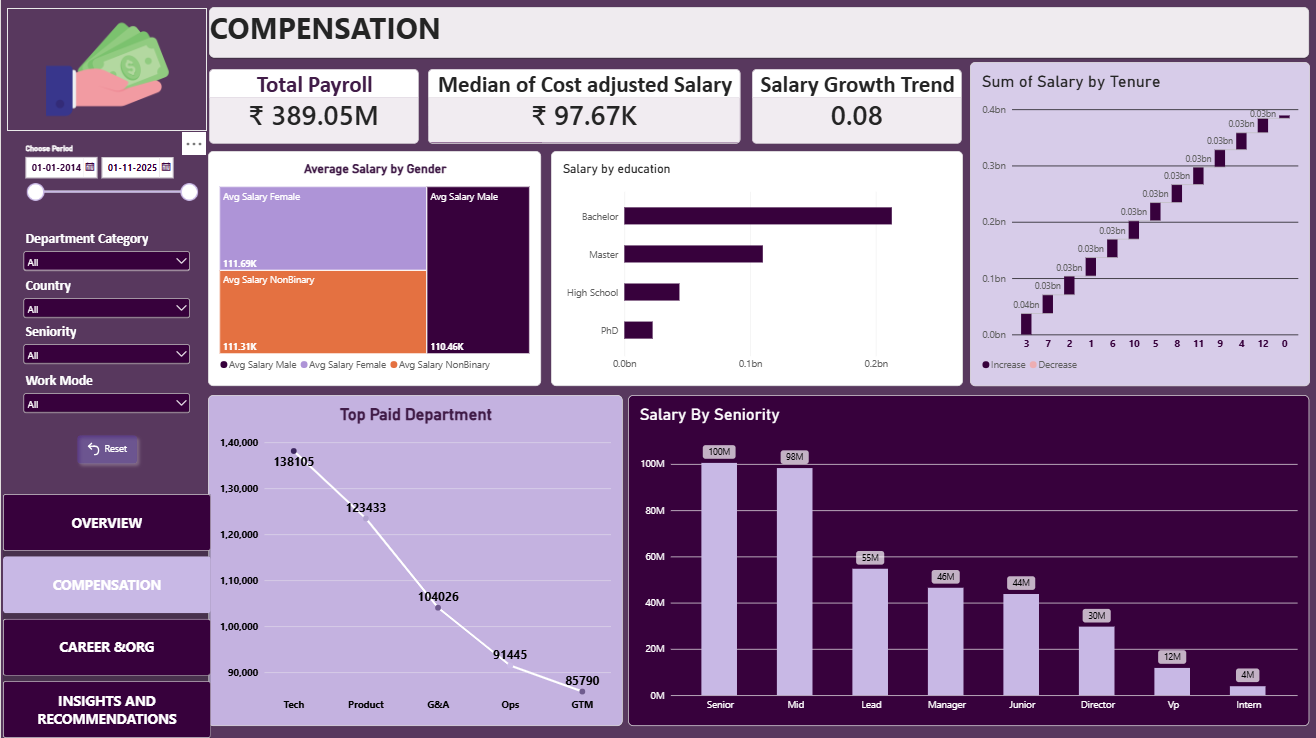

This screenshot's page, from the dashboard's own definition file:
{"tool":"powerbi","page":{"name":"COMPENSATION","canvas":[1920,1080],"ordinal":1},"visuals":[{"type":"textbox","box":[303.5,10.2,1604.9,74.4],"z":0},{"type":"cardVisual","title":"Total Payroll","fields":{"Data":["Measure Table.Total Payroll"]},"box":[303.5,100.7,306.4,109.4],"z":1000},{"type":"cardVisual","title":"Median of Cost adjusted Salary","fields":{"Data":["Measure Table.Median of Cost adjusted salary"]},"box":[623.1,101.4,456.1,108.8],"z":2000},{"type":"cardVisual","title":"Salary Growth Trend","fields":{"Data":["Measure Table.salary growth percentage"]},"box":[1095.7,101.4,306.4,109.4],"z":3000},{"type":"treemap","title":"Average Salary by Gender","fields":{"Values":["Measure Table.Avg Salary Male","Measure Table.Avg Salary Female","Measure Table.Avg Salary NonBinary"]},"box":[302.6,220.6,486,342.9],"z":4000},{"type":"lineChart","title":"Top Paid Department","fields":{"Y":["Measure Table.Top Paid Dep"],"Category":["employees.department_category"]},"box":[302.6,576.9,605.2,483],"z":5000},{"type":"slicer","fields":{"Values":["employees.hire_date"]},"box":[28.3,210.2,263.9,102.9],"z":6000},{"type":"slicer","fields":{"Values":["employees.department_category"]},"box":[28.3,335.4,253.4,68.6],"z":7000},{"type":"slicer","fields":{"Values":["locations.country"]},"box":[28.3,404,253.4,68.6],"z":8000},{"type":"slicer","fields":{"Values":["employees.seniority"]},"box":[28.3,471.1,253.4,68.6],"z":9000},{"type":"slicer","fields":{"Values":["employees.work_mode"]},"box":[28.3,542.6,253.4,68.6],"z":10000},{"type":"lineStackedColumnComboChart","title":"Salary By Seniority","fields":{"Category":["employees.seniority"],"Y":["Sum(employees.initial_salary_usd)"]},"box":[915.3,576.9,994.3,483],"z":11000},{"type":"barChart","title":"Salary by education","fields":{"Category":["employees.education"],"Y":["Sum(employees.initial_salary_usd)"]},"box":[802,220.6,600.7,342.9],"z":12000},{"type":"waterfallChart","title":"Sum of Salary by Tenure","fields":{"Category":["employees.Tenure"],"Y":["Sum(employees.initial_salary_usd)"]},"box":[1413.2,90.9,496.4,472.5],"z":13000},{"type":"image","box":[8.9,11.9,292.2,178.9],"z":14000},{"type":"actionButton","box":[101.6,626.1,105.5,59.8],"z":15000},{"type":"pageNavigator","box":[3.6,720.5,303.1,359.3],"z":16000}]}

Visuals, with their boxes in screenshot pixels (x1, y1, x2, y2), scaled from the page's 1920x1080 canvas onto the 1316x738 screenshot:
textbox: bbox=[208, 7, 1308, 58]
"Total Payroll" cardVisual: bbox=[208, 69, 418, 144]
"Median of Cost adjusted Salary" cardVisual: bbox=[427, 69, 740, 144]
"Salary Growth Trend" cardVisual: bbox=[751, 69, 961, 144]
"Average Salary by Gender" treemap: bbox=[207, 151, 541, 385]
"Top Paid Department" lineChart: bbox=[207, 394, 622, 724]
slicer - employees.hire_date: bbox=[19, 144, 200, 214]
slicer - employees.department_category: bbox=[19, 229, 193, 276]
slicer - locations.country: bbox=[19, 276, 193, 323]
slicer - employees.seniority: bbox=[19, 322, 193, 369]
slicer - employees.work_mode: bbox=[19, 371, 193, 418]
"Salary By Seniority" lineStackedColumnComboChart: bbox=[627, 394, 1309, 724]
"Salary by education" barChart: bbox=[550, 151, 961, 385]
"Sum of Salary by Tenure" waterfallChart: bbox=[969, 62, 1309, 385]
image: bbox=[6, 8, 206, 130]
actionButton: bbox=[70, 428, 142, 469]
pageNavigator: bbox=[2, 492, 210, 737]
